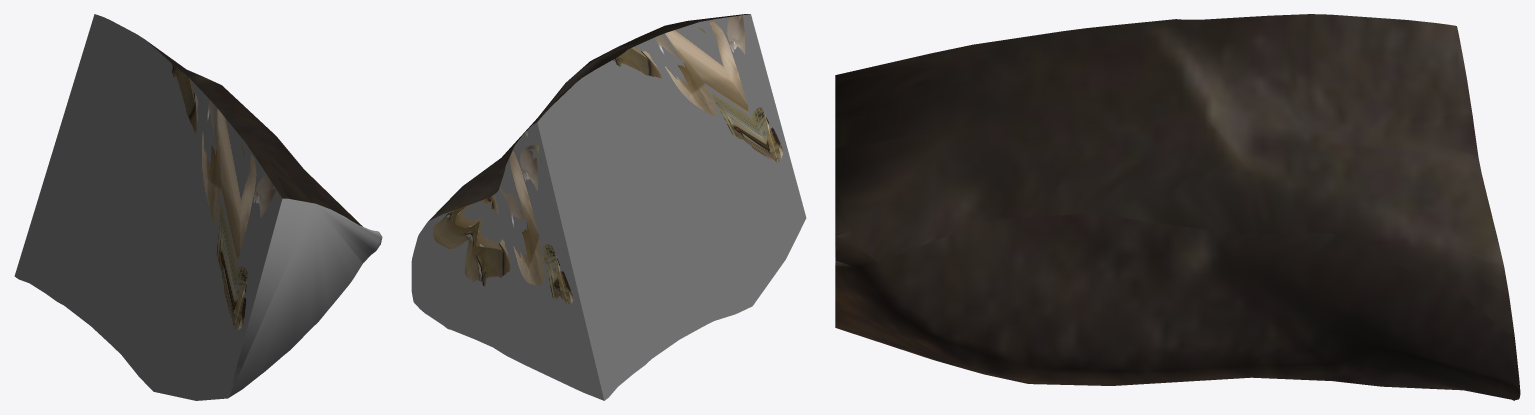
Rendered from fragment2.obj.
3 views of the same model, side by side, from view 1: azimuth 30°, elevation 25°; view 2: azimuth 150°, elevation 25°; view 3: azimuth 270°, elevation 25° (orthographic). The views are drawn at different scales.
Visible parts, largest first — view 1: sculpt_cell.002; view 2: sculpt_cell.002; view 3: sculpt_cell.002.
Part boxes in pixels (box(x1,y1,x2,y2)): sculpt_cell.002: box(14, 14, 382, 400); sculpt_cell.002: box(411, 14, 806, 400); sculpt_cell.002: box(835, 14, 1520, 400).
Size of the model in its own units: 2.63 by 3.75 by 5.53.
1 material, 1 textured.
